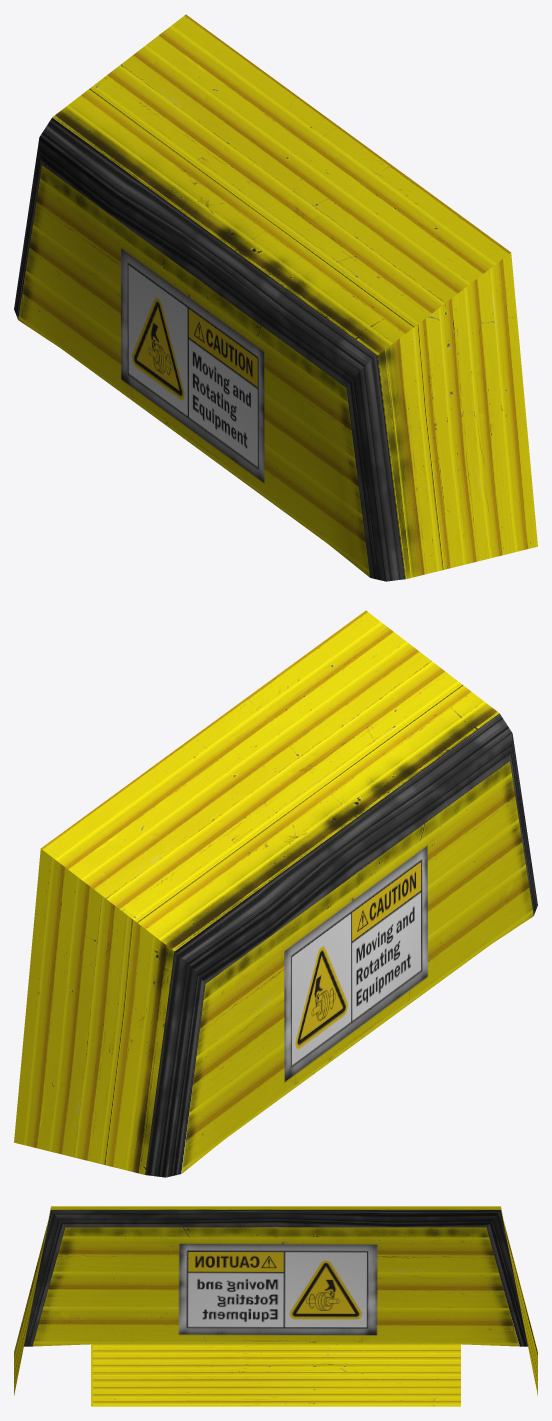
Rendered from GCeiling001.fbx.
The picture shows the model from 3 angles, top to bottom: view 1: azimuth 30°, elevation 25°; view 2: azimuth 150°, elevation 25°; view 3: azimuth 270°, elevation 25°; orthographic projection. The views are drawn at different scales.
Visible parts, largest first — view 1: GCeiling001; view 2: GCeiling001; view 3: GCeiling001.
Part boxes in pixels (x1=…): GCeiling001: x1=14, y1=14, x2=537, y2=581; GCeiling001: x1=14, y1=610, x2=537, y2=1177; GCeiling001: x1=14, y1=1206, x2=537, y2=1406.
Bounding box in the file's own units: 60.96 × 87.44 × 216.
Materials: 1 (1 with a texture image).
